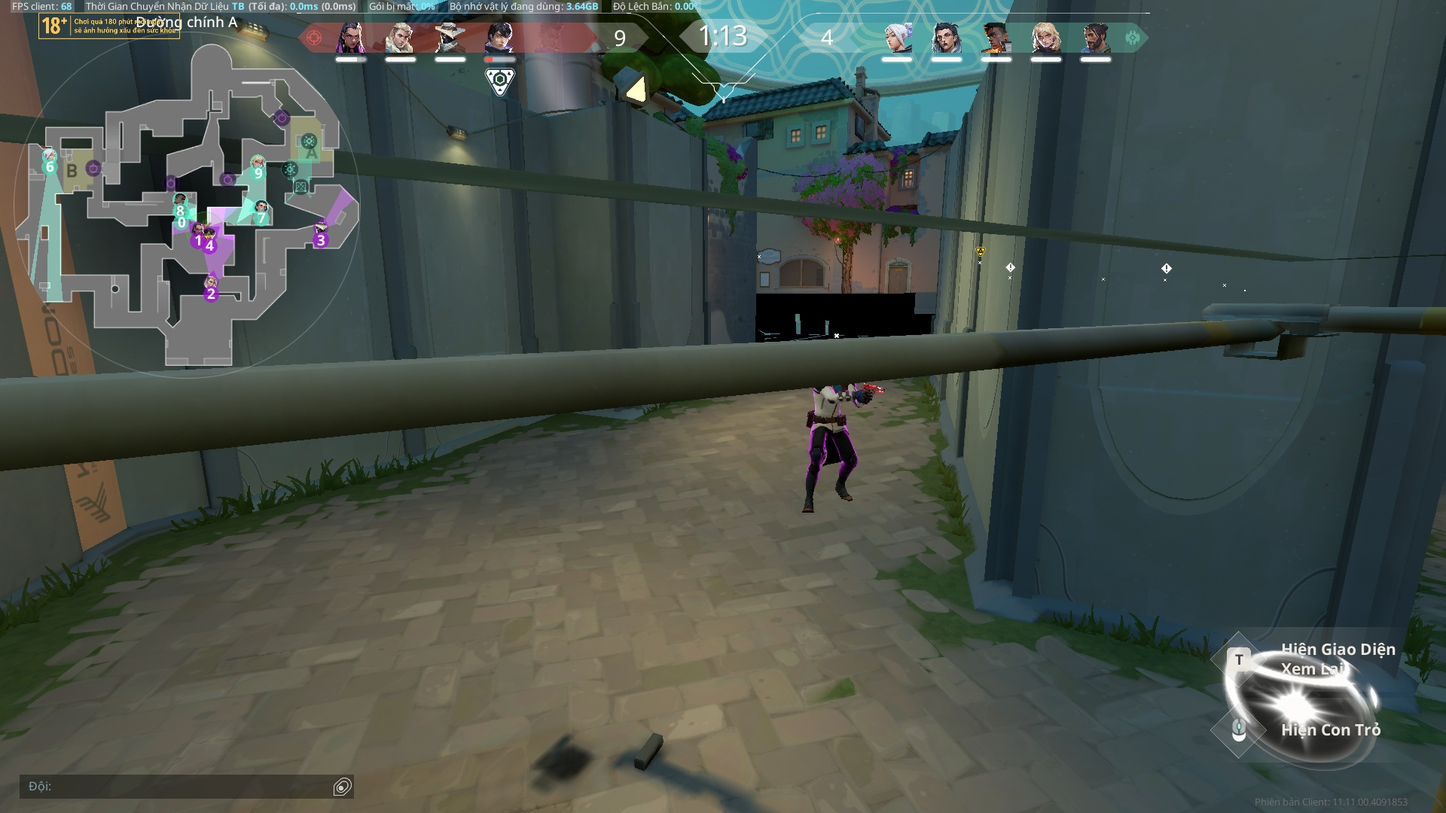body: (811, 383, 844, 418)
